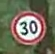limite 30: (9, 9, 47, 46)
